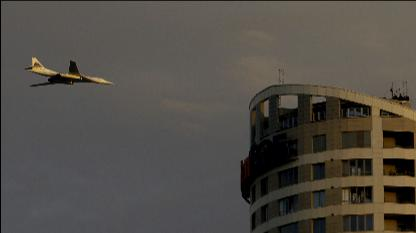Su34: (22, 56, 113, 86)
